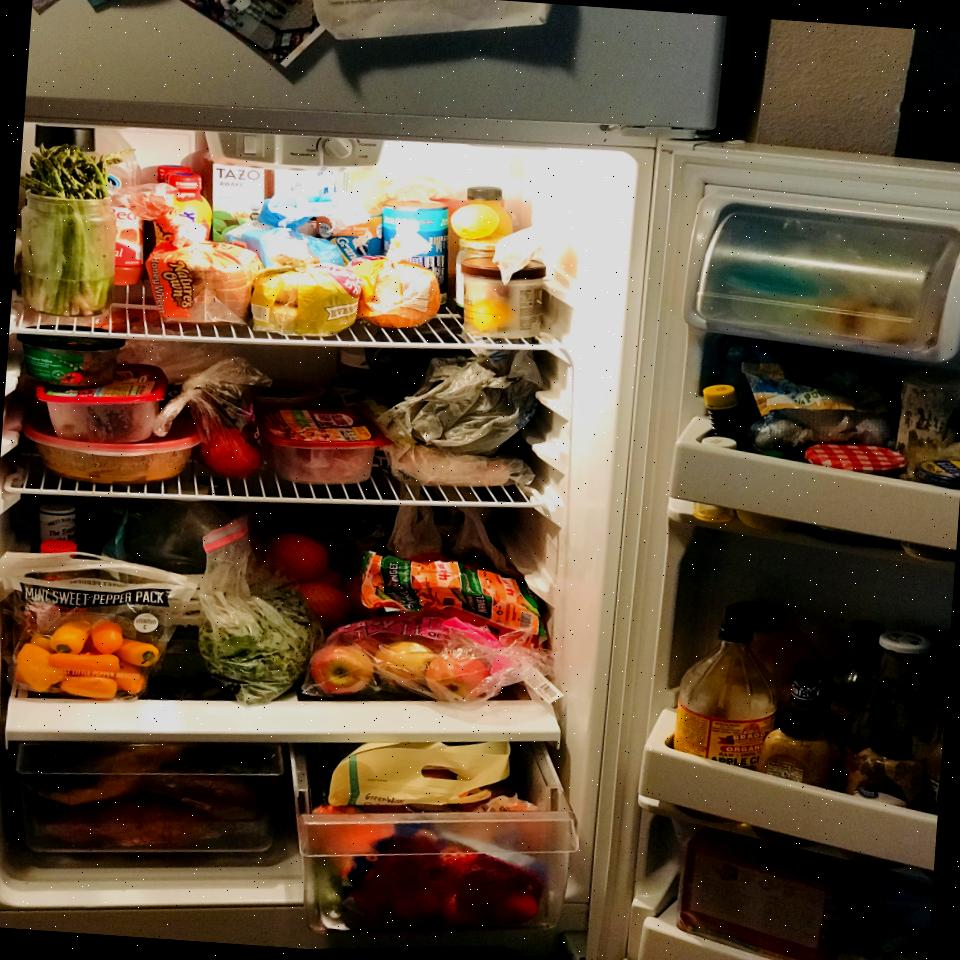Limón: (450, 202, 501, 242)
Manzana: (305, 644, 375, 698), (422, 652, 491, 704), (372, 640, 438, 692)
Tomate: (202, 426, 262, 480)
orange: (346, 830, 544, 932), (272, 533, 330, 581), (294, 580, 352, 628)
